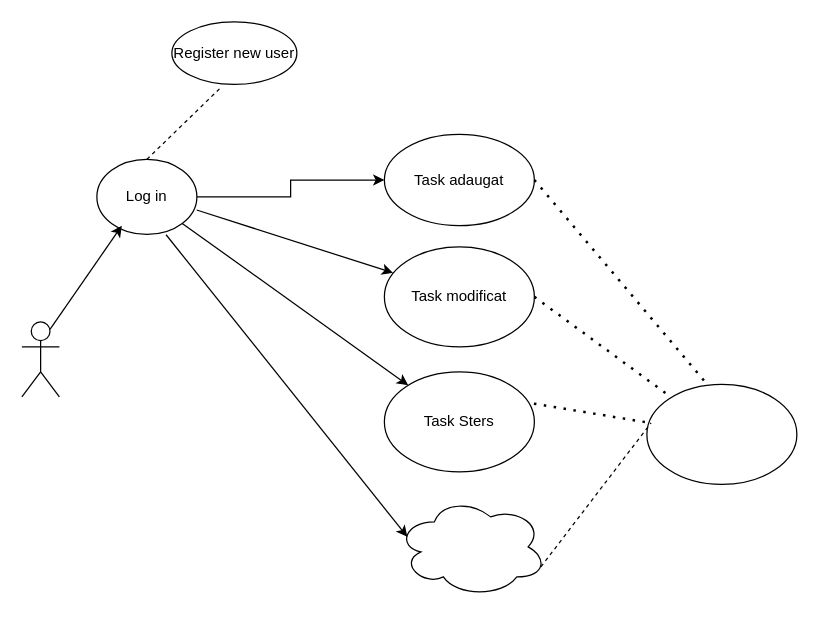
The diagram is 819 pixels wide and 619 high, and some of its shapes have lost their labels. Each missing label, with the box of its shape:
Comments: (646, 383, 797, 484)
Meet: (396, 496, 547, 597)
User: (21, 321, 59, 397)
